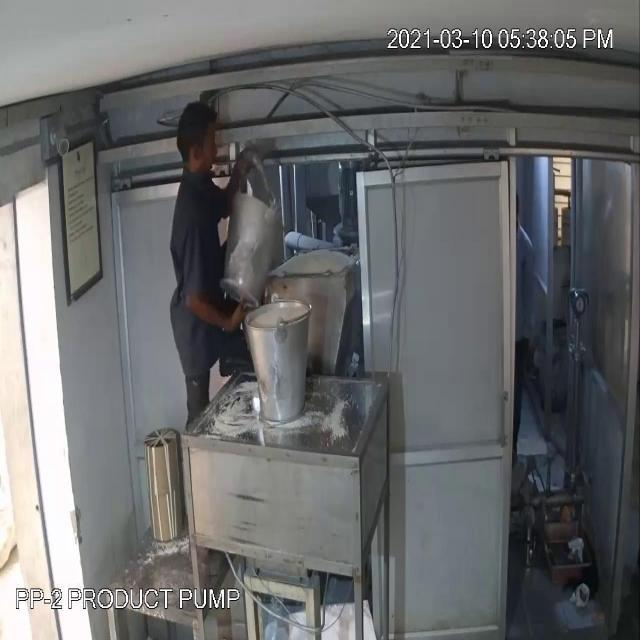No_Gloves: (183, 273, 256, 346)
